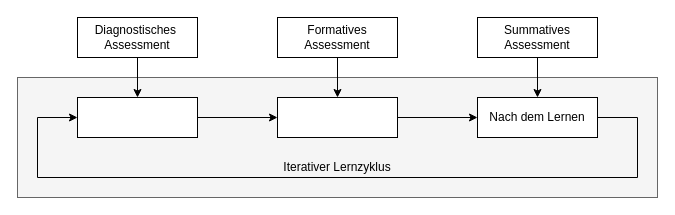
This 675x215 diagram has some shape labels left out. Here are the shapes that lost their labels. From the top down, the centre of each, then its label:
At pixel 137 117: "Vor dem Lernen".
At pixel 337 117: "Während des Lernens".
